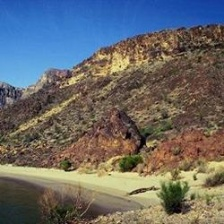neutral: (1, 3, 223, 224)
